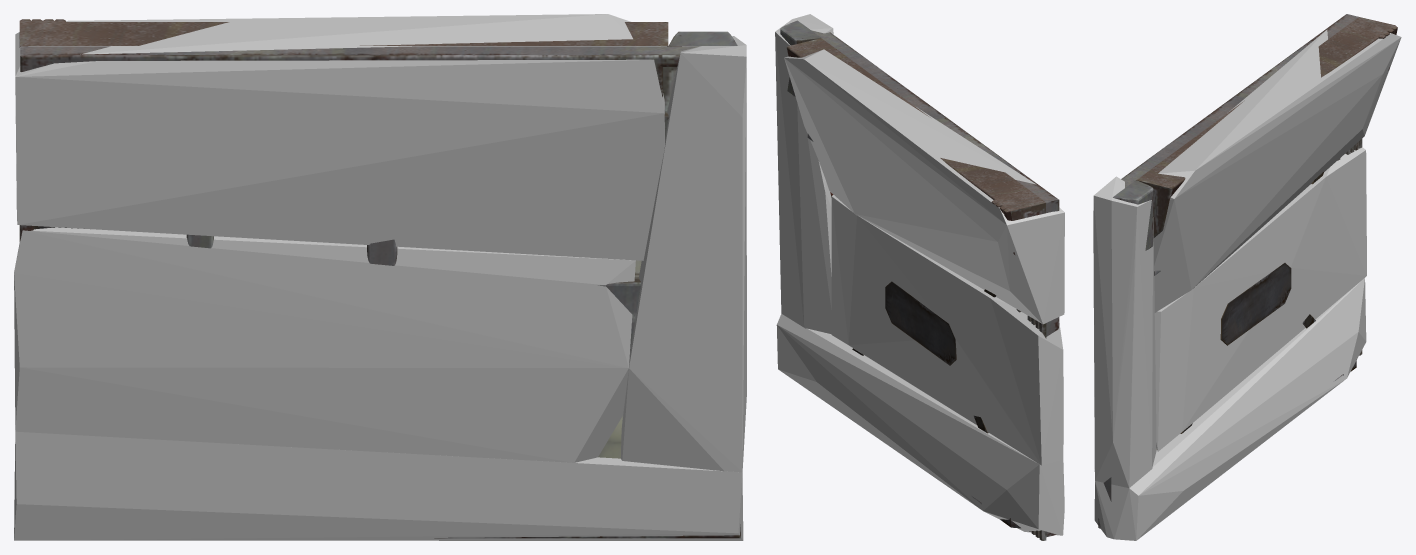
Rendered from SM_Door_Shipping_Container.fbx.
3 views of the same model, side by side, from view 1: azimuth 30°, elevation 25°; view 2: azimuth 150°, elevation 25°; view 3: azimuth 270°, elevation 25° (orthographic). The views are drawn at different scales.
Parts seen in each view (by area): view 1: SM_Door_Shipping_Container_ConvexHulls, SM_Door_Shipping_Container; view 2: SM_Door_Shipping_Container_ConvexHulls, SM_Door_Shipping_Container; view 3: SM_Door_Shipping_Container_ConvexHulls, SM_Door_Shipping_Container.
Part boxes in pixels (left/top/right/bottom): SM_Door_Shipping_Container_ConvexHulls: left=14, top=14, right=746, bottom=540; SM_Door_Shipping_Container: left=19, top=19, right=740, bottom=538; SM_Door_Shipping_Container_ConvexHulls: left=775, top=14, right=1064, bottom=535; SM_Door_Shipping_Container: left=780, top=20, right=1059, bottom=540; SM_Door_Shipping_Container_ConvexHulls: left=1093, top=29, right=1401, bottom=540; SM_Door_Shipping_Container: left=1098, top=14, right=1397, bottom=528.
Size of the model in its own units: 283 by 193 by 238.
Materials: 4 (3 with a texture image).
